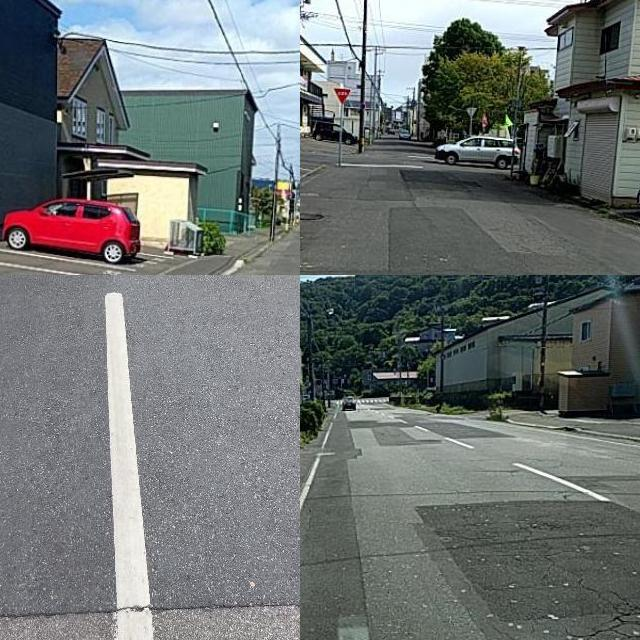Sambungan: (0, 275, 300, 617), (414, 495, 640, 640), (300, 208, 522, 275), (300, 466, 377, 640)
